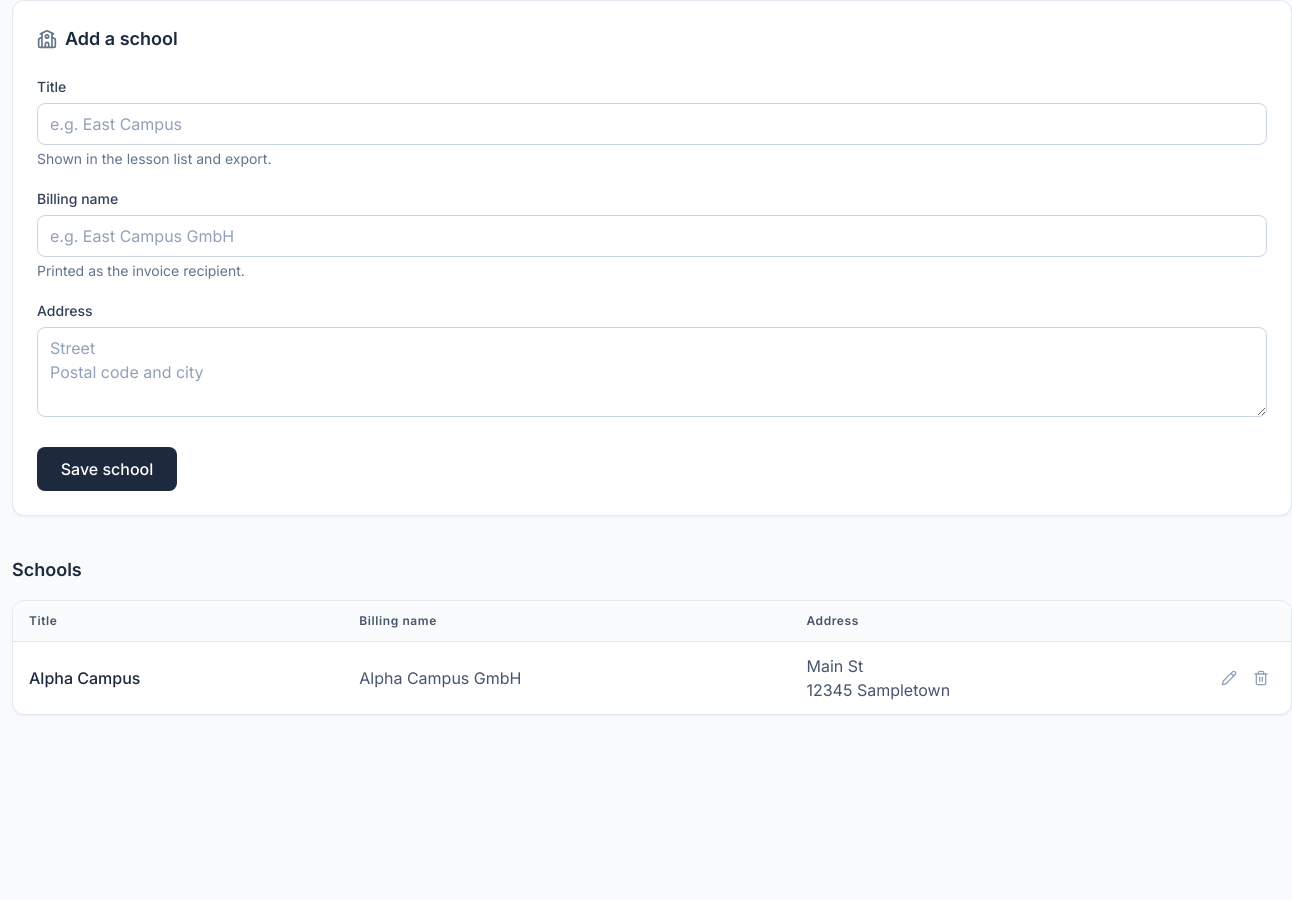
it: SchoolsPage › shows the server message when a school in use cannot be deleted
Click the button named "delete alpha campus": (1261, 678) top-left (1247, 664), bottom-right (1275, 692)
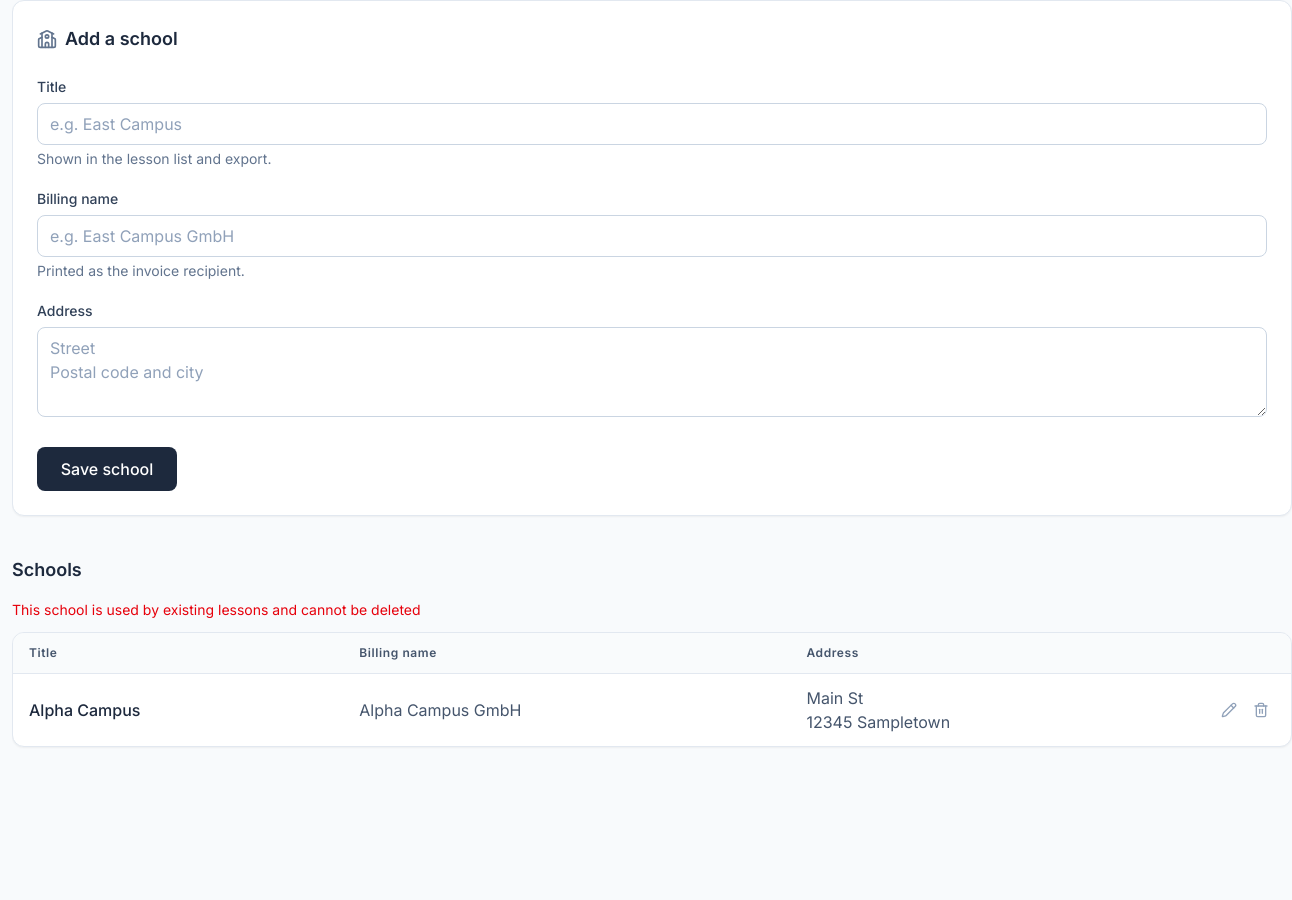
Expected: the button named "delete alpha campus" is shown, top-left (1247, 696), bottom-right (1275, 724)
Expected: the message reads "This school is used by existing lessons and cannot be deleted", top-left (12, 601), bottom-right (421, 618)
